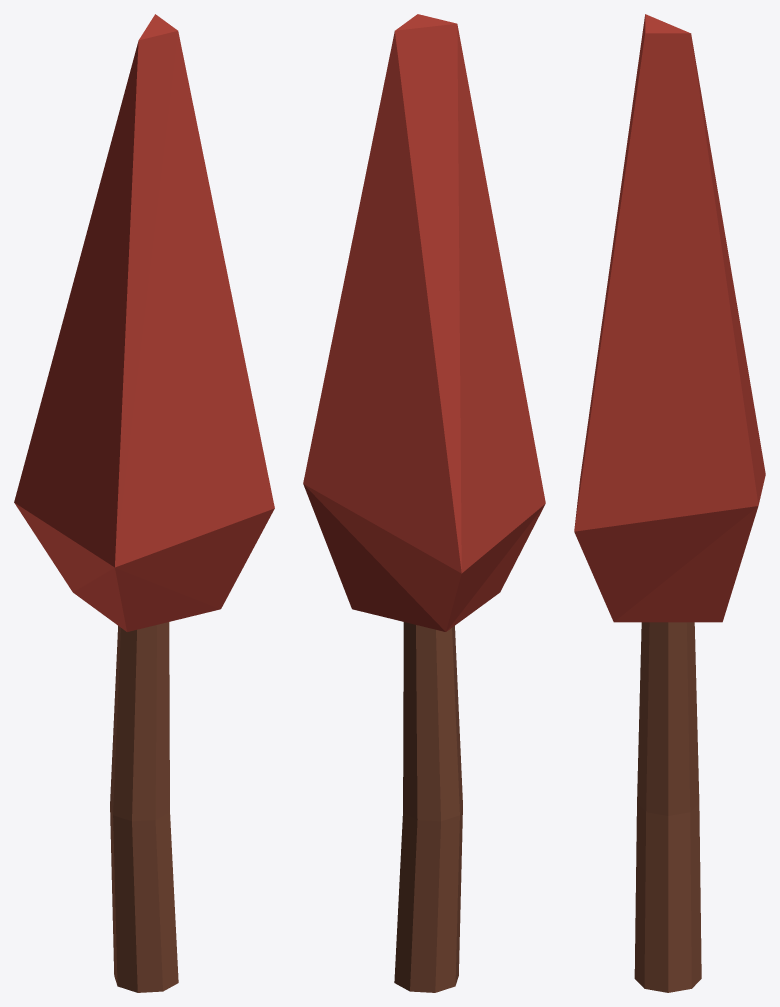
The model's file is Tree_49_summer_red_vc.fbx.
The picture shows the model from 3 angles, left to right: view 1: azimuth 30°, elevation 25°; view 2: azimuth 150°, elevation 25°; view 3: azimuth 270°, elevation 25°; orthographic projection.
Visible parts, largest first — view 1: Tree_49_summer_red_vc; view 2: Tree_49_summer_red_vc; view 3: Tree_49_summer_red_vc.
Boxes of the visible parts, bbox=[...] form: Tree_49_summer_red_vc: bbox=[14, 14, 274, 992]; Tree_49_summer_red_vc: bbox=[303, 14, 545, 992]; Tree_49_summer_red_vc: bbox=[574, 14, 765, 992].
Bounding box in the file's own units: 47.16 × 259 × 47.16.
